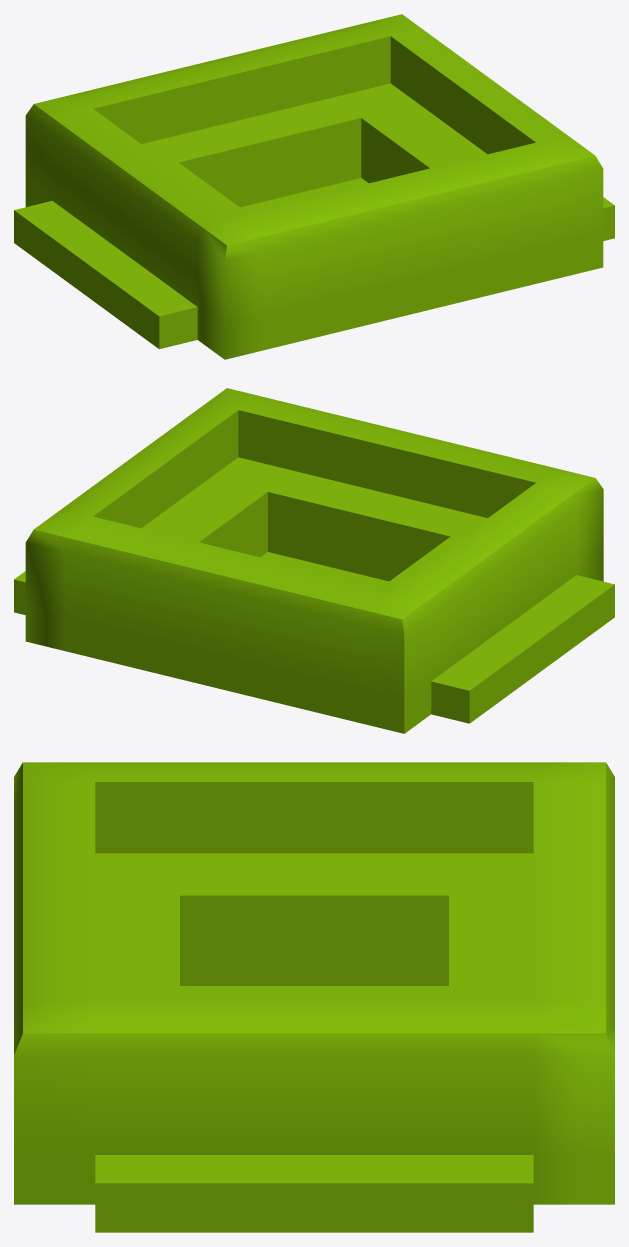
Rendered from Jacuzzi.FBX.
The picture shows the model from 3 angles, top to bottom: view 1: azimuth 30°, elevation 25°; view 2: azimuth 150°, elevation 25°; view 3: azimuth 270°, elevation 25°; orthographic projection. The views are drawn at different scales.
Visible parts, largest first — view 1: Jacuzzi; view 2: Jacuzzi; view 3: Jacuzzi.
Boxes of the visible parts, left/top/right/bottom form: Jacuzzi: left=14, top=14, right=614, bottom=359; Jacuzzi: left=14, top=388, right=614, bottom=733; Jacuzzi: left=14, top=762, right=614, bottom=1232.
Size of the model in its own units: 4.94 by 1.19 by 3.74.
